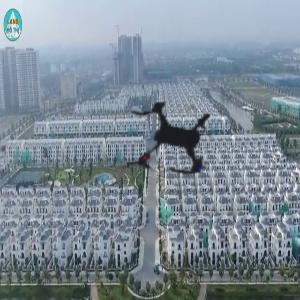drone: (77, 38, 272, 233)
